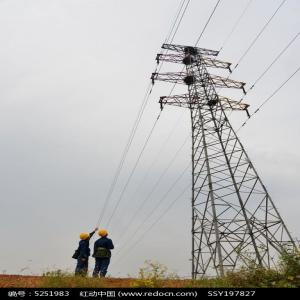yellow: (79, 234, 92, 242), (98, 230, 109, 238)
